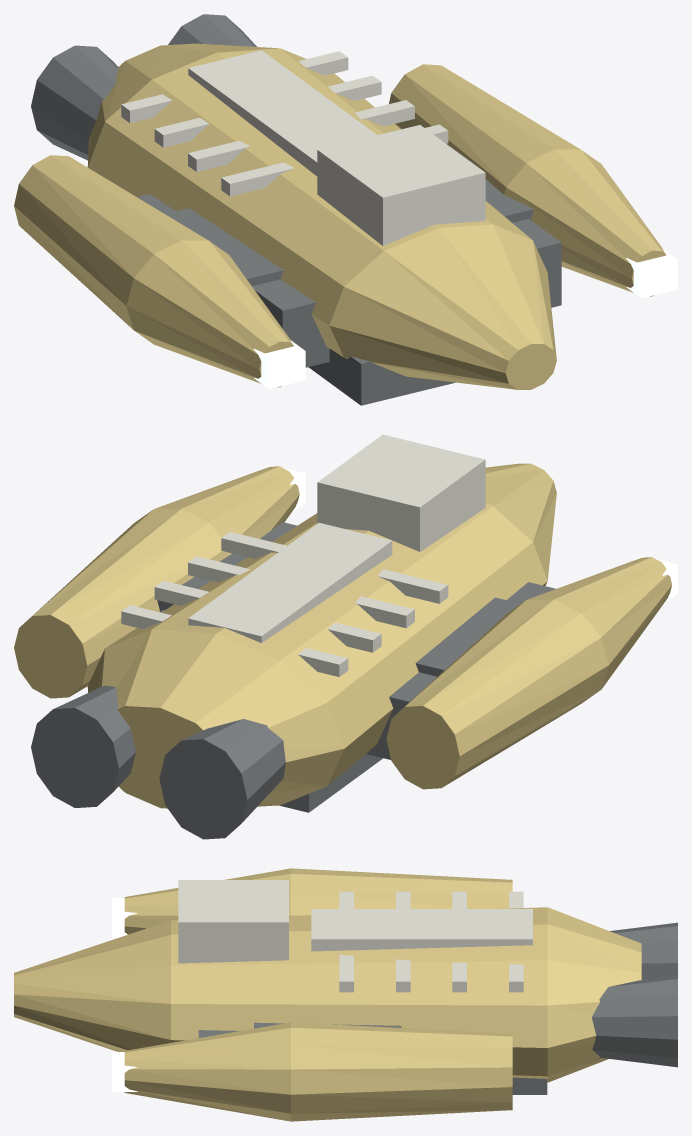
The picture shows the model from 3 angles, top to bottom: view 1: azimuth 30°, elevation 25°; view 2: azimuth 150°, elevation 25°; view 3: azimuth 270°, elevation 25°; orthographic projection. The views are drawn at different scales.
Bounding box in the file's own units: 5.37 × 2.06 × 7.55.
